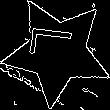L_E: (31, 33, 84, 70)
